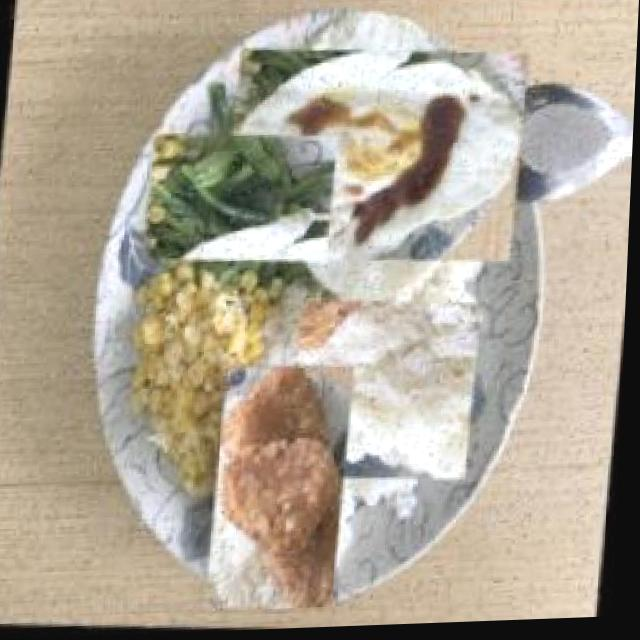fried_eggs: (243, 25, 512, 293)
rice: (290, 296, 484, 489)
triangle_hash_brown: (211, 362, 360, 616)
water_spinach: (158, 115, 327, 283)
